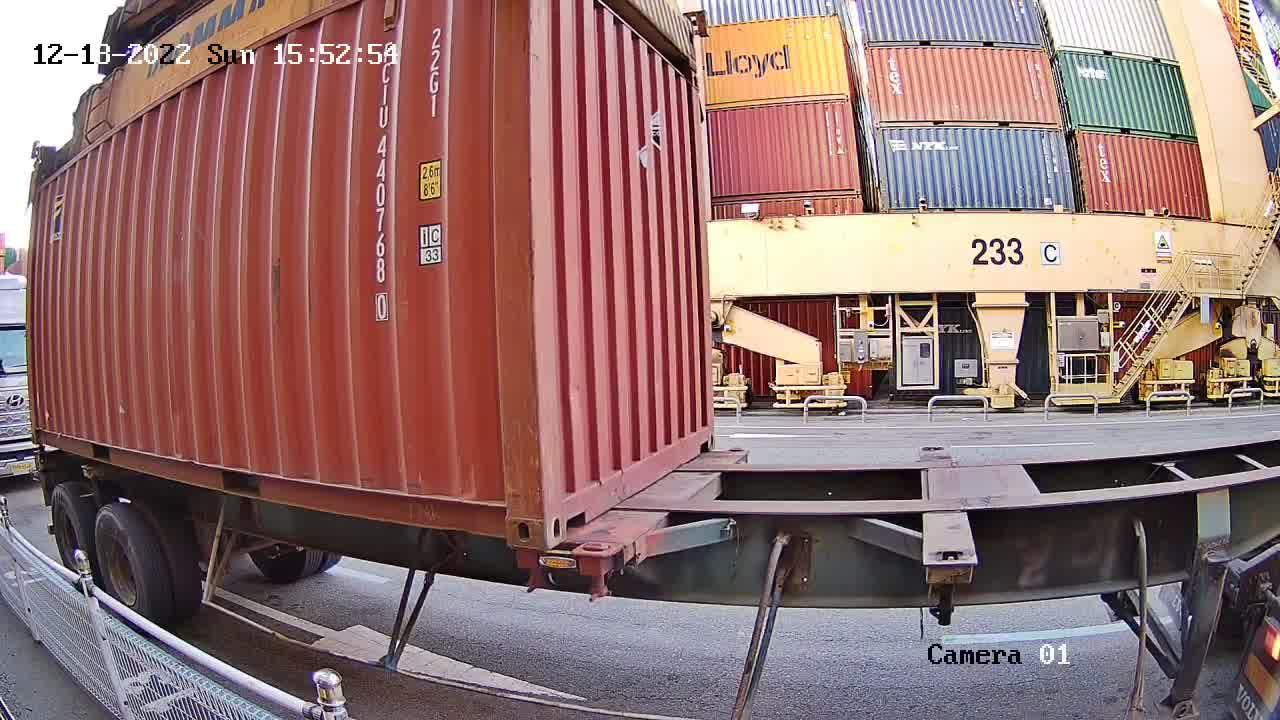Chassis: (576, 450, 749, 567)
Cone: (567, 542, 626, 602), (510, 549, 557, 593)
Hole_L: (544, 451, 592, 550)
Hole_R: (474, 468, 548, 550), (692, 412, 718, 456)
Tire: (93, 512, 143, 604), (49, 490, 84, 562)
